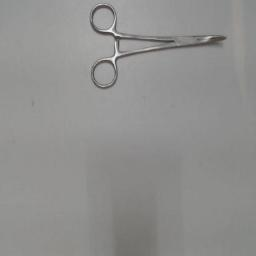Crile Artery Forceps: (89, 1, 231, 89)
